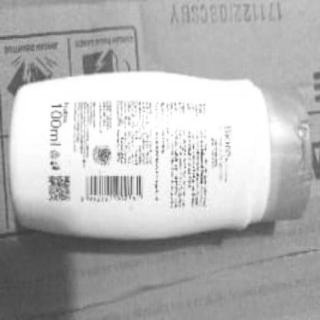objects: (11, 73, 309, 237)
